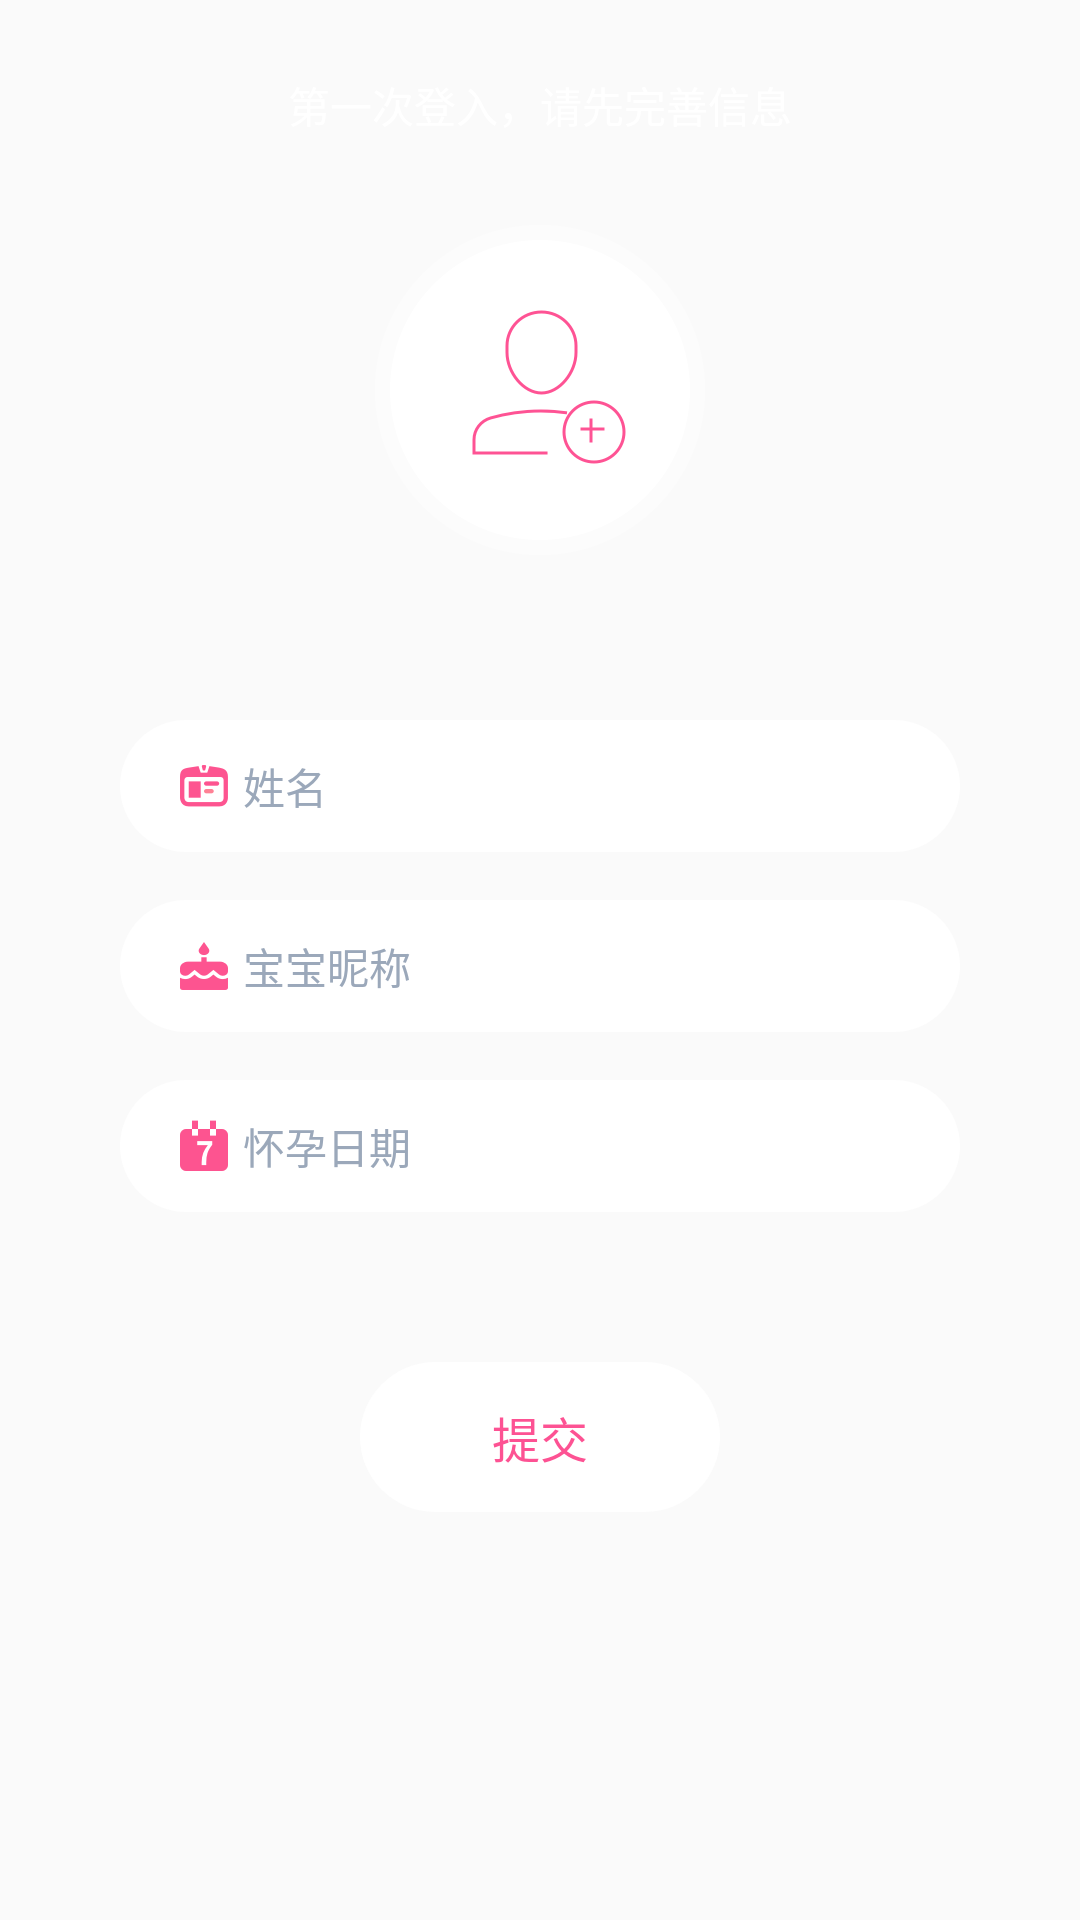

Icons on this 1080 × 1920 Android screen, each with its box as region(x1, y1, x2, y2):
head: region(472, 310, 626, 464)
